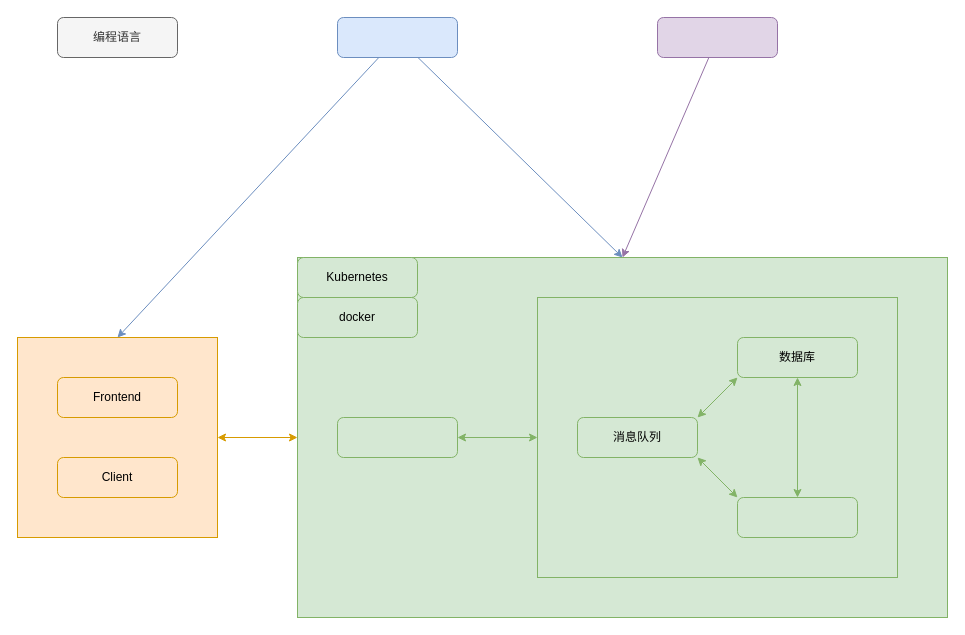
The diagram is 965 pixels wide and 635 high, and some of its shapes have lost their labels. Here are the shapes that lost their labels. From the top down, the box of each, then its label:
(336, 16, 458, 58): 网络
(656, 16, 778, 58): 操作系统
(336, 416, 458, 458): web框架
(736, 496, 858, 538): 缓存
